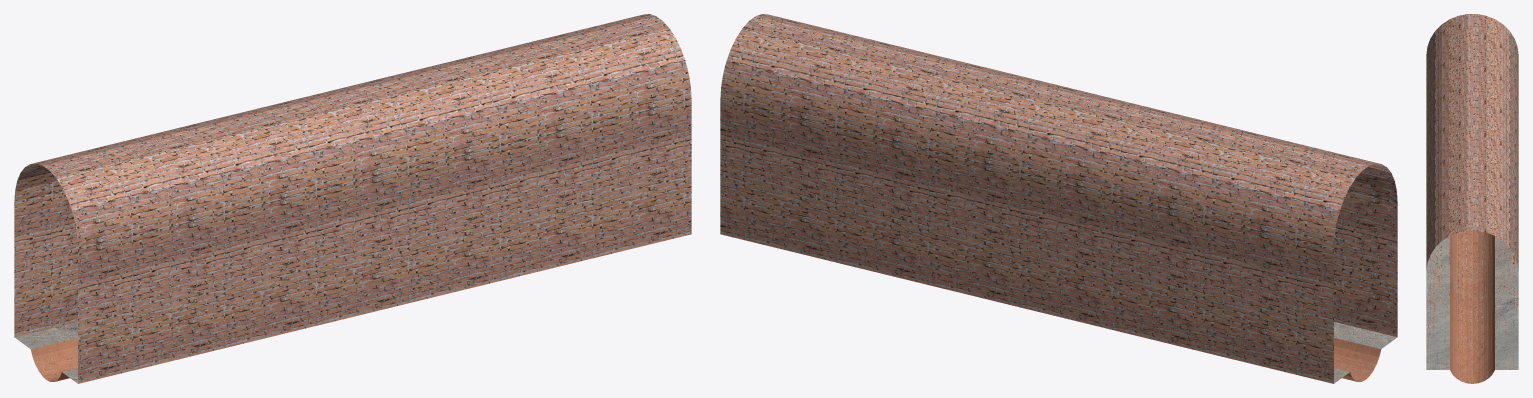
Rendered from T130_recto_5m.dae.
3 views of the same model, side by side, from view 1: azimuth 30°, elevation 25°; view 2: azimuth 150°, elevation 25°; view 3: azimuth 270°, elevation 25° (orthographic). The views are drawn at different scales.
Parts seen in each view (by area): view 1: SketchUp (×3); view 2: SketchUp (×3); view 3: SketchUp (×4).
Boxes of the visible parts, box(x1,y1,x2,y2) form: SketchUp (×3): box(14, 14, 691, 383); SketchUp (×3): box(720, 14, 1397, 383); SketchUp (×4): box(1426, 14, 1518, 383).
Bounding box in the file's own units: 197 × 35.43 × 64.86.
